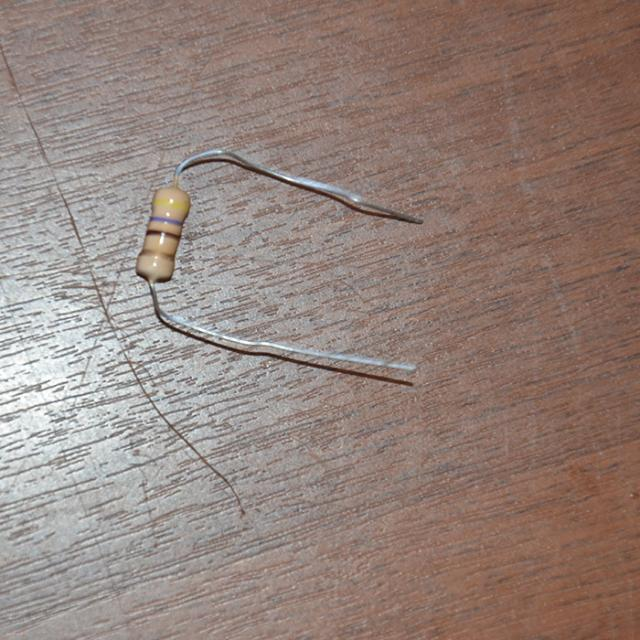brown: (147, 228, 181, 239)
gold: (142, 248, 173, 257)
resistor: (123, 169, 211, 293)
violet: (149, 215, 183, 224)
yellow: (153, 197, 187, 209)
